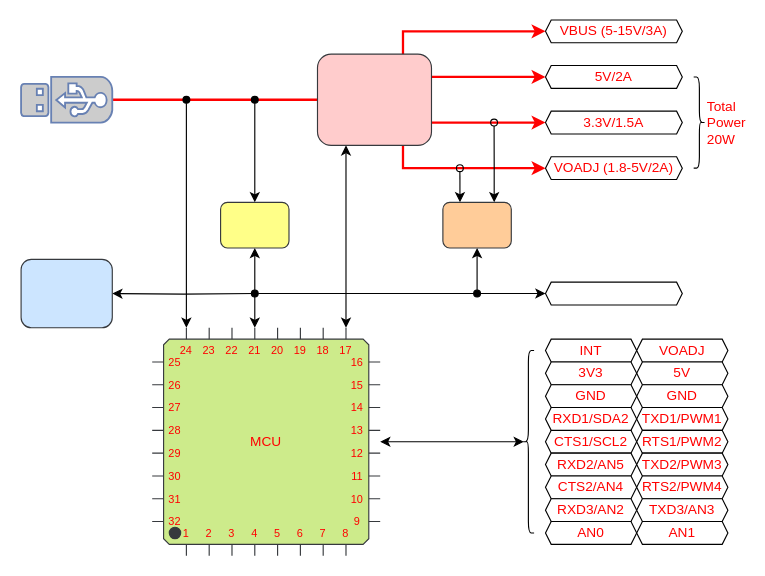
Some shapes in this 765 by 576 pixel diagram are drawn without their labels. The box of each missing label's shape, as (x1, y1, x2, y2) in pixels:
2xQWIIC (I2C1): (544, 281, 682, 305)
Energy Monitor: (442, 201, 511, 248)
OLED (128x64): (20, 258, 112, 328)
POWER CONTROLLER: (316, 53, 431, 145)
USB PD: (219, 201, 289, 248)
